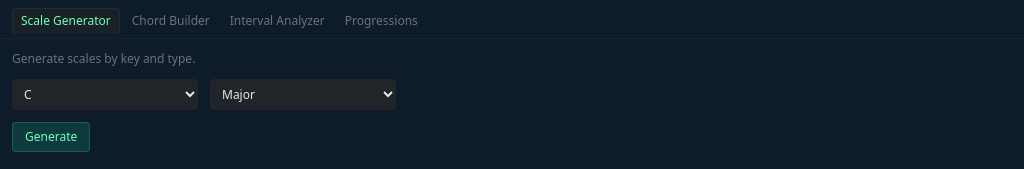
Test: MusicTheoryPanel › switches to Interval Analyzer on click
Click the button "Interval Analyzer".
click(277, 21)  # box [222,8,333,34]
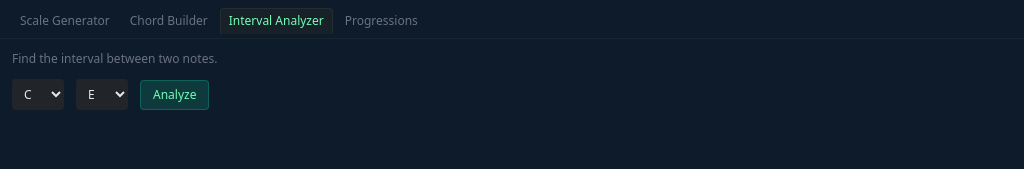
Result: the text "Find the interval between two notes." is shown at [12,50,217,67]
